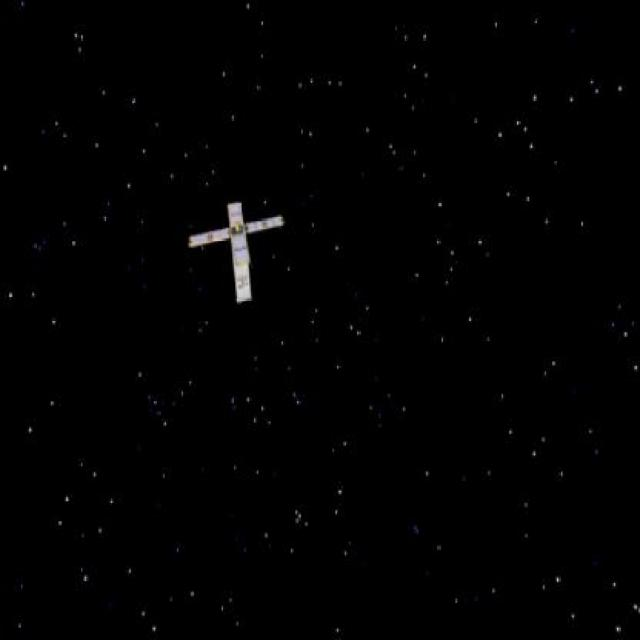satellite: (183, 194, 290, 310)
